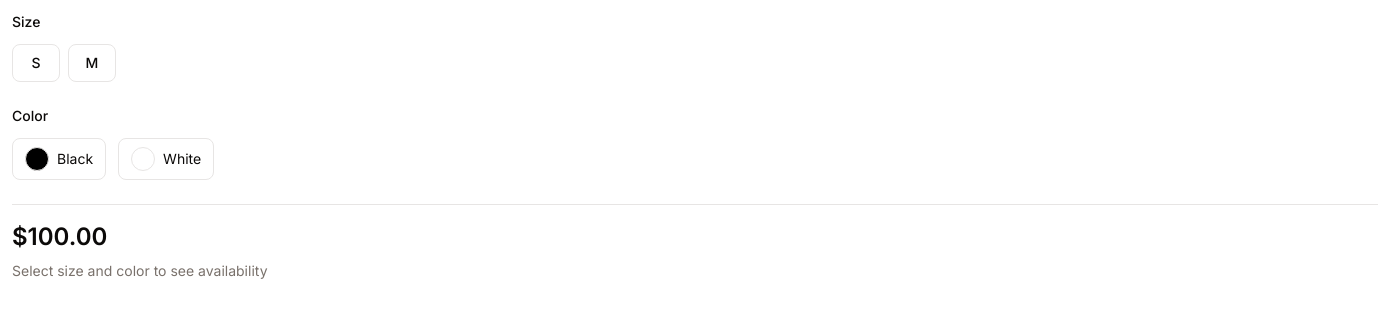
Test: VariantSelector › shows stock quantity when variant is selected
// Select S and Black
Click the radio button labelled "S". click: coordinates (36, 63)
box: [12, 44, 60, 82]
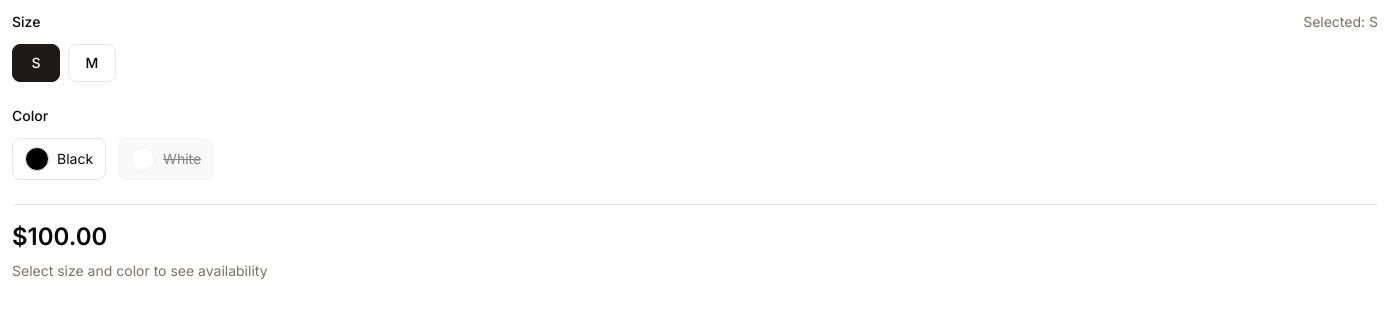
Click the radio button labelled "Black". click: coordinates (59, 159)
box: [12, 138, 106, 180]
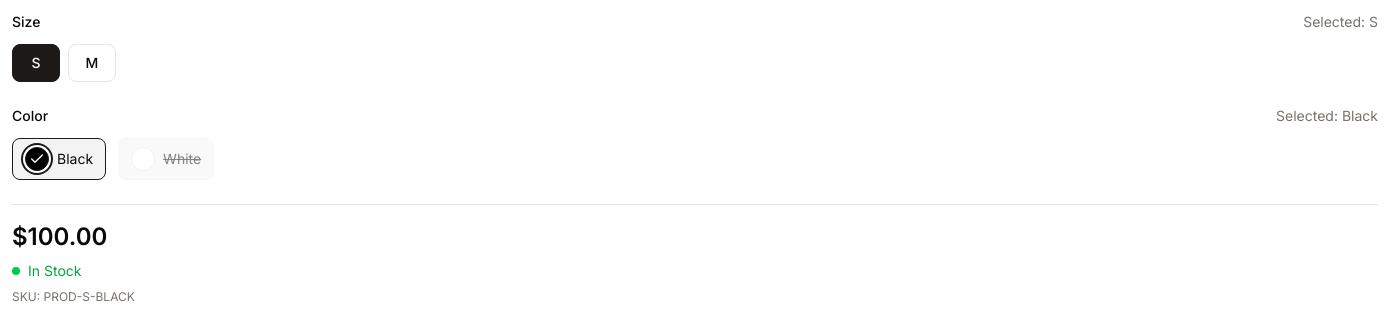
Expected: the text "In Stock" is shown, [28, 261, 82, 281]
